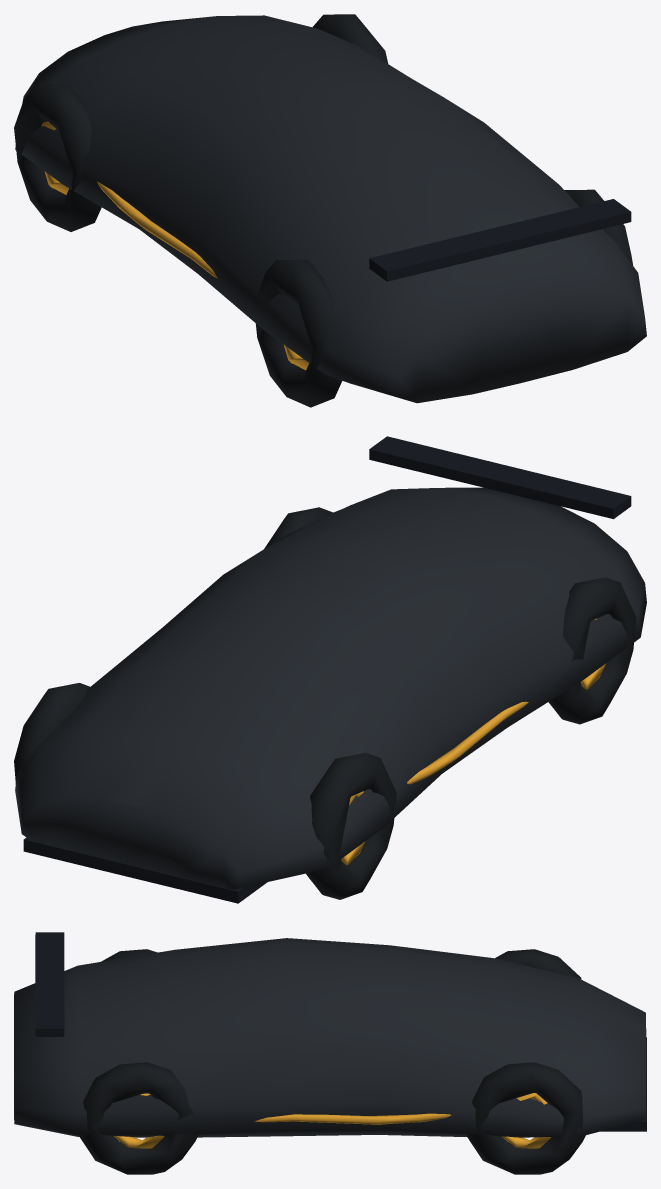
The model's file is Rival02_Muscle_LOD2.fbx.
3 views of the same model, one above another, from view 1: azimuth 30°, elevation 25°; view 2: azimuth 150°, elevation 25°; view 3: azimuth 270°, elevation 25° (orthographic). The views are drawn at different scales.
Visible parts, largest first — view 1: Rival02_Muscle_Body_LOD2, Rival02_Muscle_Wheel_FL_LOD2, Rival02_Muscle_Wheel_RL_LOD2, Rival02_Muscle_Wheel_FR_LOD2, Rival02_Muscle_Wheel_RR_LOD2; view 2: Rival02_Muscle_Body_LOD2, Rival02_Muscle_Wheel_FL_LOD2, Rival02_Muscle_Wheel_RL_LOD2, Rival02_Muscle_Wheel_FR_LOD2, Rival02_Muscle_Wheel_RR_LOD2; view 3: Rival02_Muscle_Body_LOD2, Rival02_Muscle_Wheel_FR_LOD2, Rival02_Muscle_Wheel_RR_LOD2, Rival02_Muscle_Wheel_FL_LOD2.
Part boxes in pixels (left/top/right/bottom): Rival02_Muscle_Body_LOD2: left=15, top=15, right=646, bottom=403; Rival02_Muscle_Wheel_FL_LOD2: left=14, top=84, right=101, bottom=231; Rival02_Muscle_Wheel_RL_LOD2: left=255, top=259, right=341, bottom=407; Rival02_Muscle_Wheel_FR_LOD2: left=313, top=14, right=388, bottom=63; Rival02_Muscle_Wheel_RR_LOD2: left=564, top=189, right=633, bottom=265; Rival02_Muscle_Body_LOD2: left=15, top=436, right=646, bottom=903; Rival02_Muscle_Wheel_FL_LOD2: left=306, top=752, right=396, bottom=899; Rival02_Muscle_Wheel_RL_LOD2: left=548, top=577, right=636, bottom=724; Rival02_Muscle_Wheel_FR_LOD2: left=14, top=683, right=89, bottom=784; Rival02_Muscle_Wheel_RR_LOD2: left=264, top=507, right=332, bottom=548; Rival02_Muscle_Body_LOD2: left=14, top=932, right=646, bottom=1137; Rival02_Muscle_Wheel_FR_LOD2: left=467, top=1062, right=585, bottom=1174; Rival02_Muscle_Wheel_RR_LOD2: left=79, top=1062, right=198, bottom=1174; Rival02_Muscle_Wheel_FL_LOD2: left=495, top=949, right=581, bottom=978.
Bounding box in the file's own units: 2.15 × 1.29 × 4.54.
